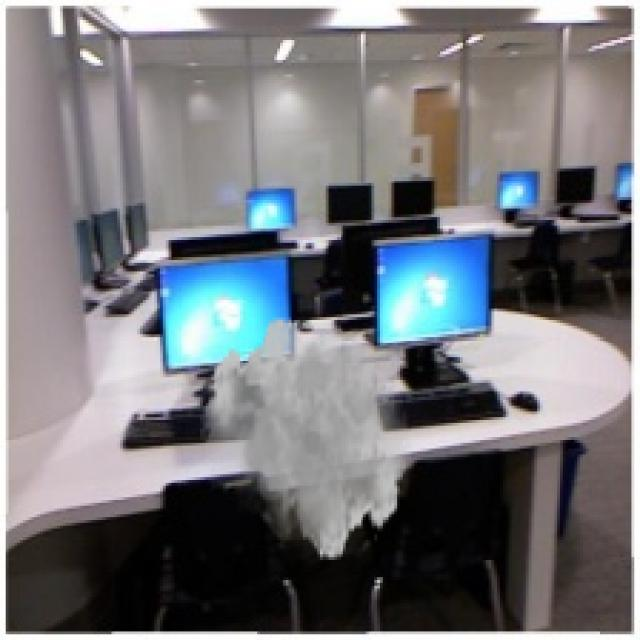smoke: (200, 314, 411, 563)
